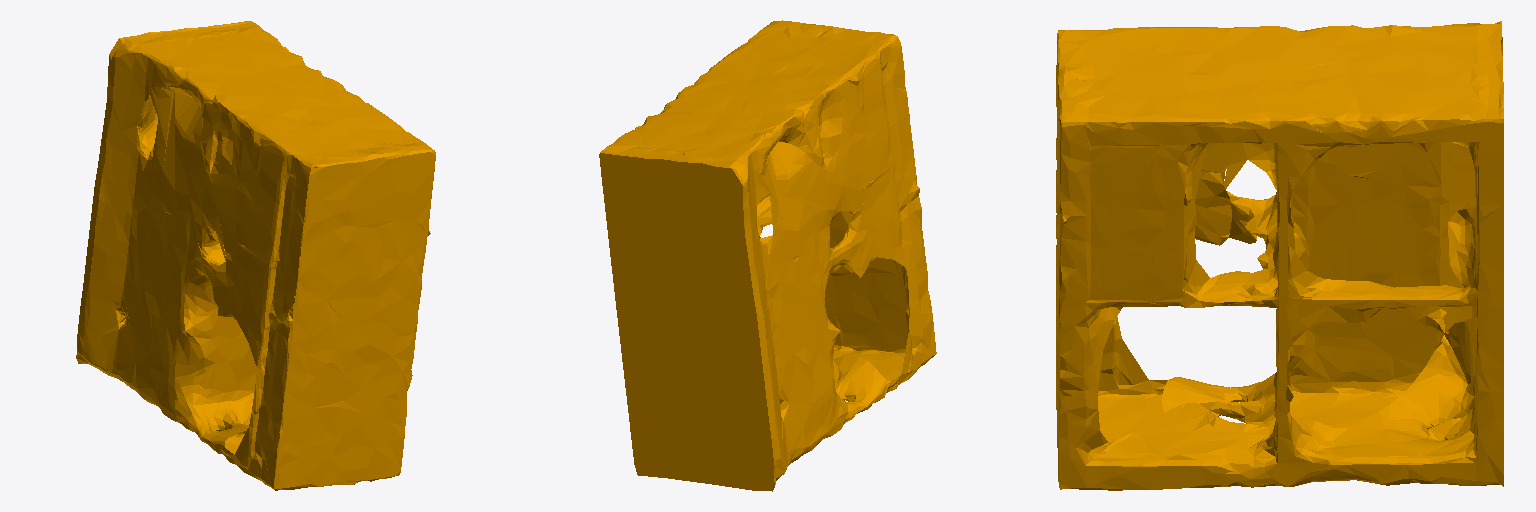
URDF robot description (ikea):
<?xml version="1.0"?>
<robot name="ikea">
  <link name ="rb0">
    <visual>
      <origin xyz='0.022180 0.552208 0.418122' rpy='0.022296 -1.404355 -0.002711'/>
      <geometry>
        <mesh filename="meshes/ikea_base.obj"  scale="1 1 1" />
      </geometry>
    </visual>

     <collision>
      <origin xyz='0.022180 0.552208 0.418122' rpy='0.022296 -1.404355 -0.002711'/>
      <geometry>
        <mesh filename="meshes/ikea_base.obj"  scale="1 1 1" />
      </geometry>
    </collision>

  </link>
  <joint name="j_0_1" type="prismatic">
    <parent link="rb0"/>
    <child link="rb1"/>
    <origin xyz="0.217860996453 -0.0578551077004 0.473953682013" rpy="0 0 0 "/>
    <axis xyz="0.993345970953 0.00472787271649 -0.115071409178"/>
    <limit effort="30" velocity="1.0" lower="-3.1416" upper="3.1416"/>
  </joint>
  <joint name="j_0_fixed" type="fixed">
    <parent link="rb1"/>
    <child link="rb1_marker"/>
      <origin xyz="0.0 0.0 0.0" rpy="1.67516747114 -0.047479998167 1.60579785099"/>
    <limit effort="30" velocity="1.0" lower="-3.1416" upper="3.1416"/>
  </joint>
  <joint name="j_0_2" type="revolute">
    <parent link="rb0"/>
    <child link="rb2"/>
    <origin xyz="0.18966307383 0.0549552994237 0.367074366162" rpy="0 0 0 "/>
    <axis xyz="-0.0373269377607 0.999291610171 -0.00479349127949"/>
    <limit effort="30" velocity="1.0" lower="-3.1416" upper="3.1416"/>
  </joint>
  <joint name="j_1_fixed" type="fixed">
    <parent link="rb2"/>
    <child link="rb2_marker"/>
      <origin xyz="0.0111909507171 -0.00123738202531 -0.295118883249" rpy="2.97920365551 -0.859284197544 -0.227513165653"/>
    <limit effort="30" velocity="1.0" lower="-3.1416" upper="3.1416"/>
  </joint>
  <link name ="rb1">
  </link>
  <link name ="rb1_marker">
    <visual>
      <origin xyz='-0.050028 0.105969 -0.165504' rpy='3.076699 -1.528233 3.141591'/>
      <geometry>
        <mesh filename="meshes/ikea_drawer.obj"  scale="1 1 1" />
      </geometry>
    </visual>

     <collision>
      <origin xyz='-0.050028 0.105969 -0.165504' rpy='3.076699 -1.528233 3.141591'/>
      <geometry>
        <mesh filename="meshes/ikea_drawer.obj"  scale="1 1 1" />
      </geometry>
    </collision>

  </link>
  <link name ="rb2">
  </link>
  <link name ="rb2_marker">
    <visual>
      <origin xyz='0.312712 0.176150 -0.208321' rpy='-0.988543 -0.912821 -0.669597'/>
      <geometry>
        <mesh filename="meshes/ikea_door.obj"  scale="1 1 1" />
      </geometry>
    </visual>

    <collision>
      <origin xyz='0.312712 0.176150 -0.208321' rpy='-0.988543 -0.912821 -0.669597'/>
      <geometry>
        <mesh filename="meshes/ikea_door.obj"  scale="1 1 1" />
      </geometry>
    </collision>

  </link>
</robot>

--- Facts derived from the render (not from the file) ---
Views: 3 orthographic renders of the robot side by side, from view 1: azimuth 30°, elevation 25°; view 2: azimuth 150°, elevation 25°; view 3: azimuth 270°, elevation 25°.
Robot: ikea — 5 links, 4 joints (1 revolute, 1 prismatic, 2 fixed); root link rb0; default pose: every joint at zero.
Links seen in each view (by area): view 1: rb0; view 2: rb0; view 3: rb0.
Link boxes in pixels (x1,y1,x2,y2): rb0: (76,21,435,490); rb0: (599,20,936,491); rb0: (1056,21,1503,490).
Size in the robot's own frame: 0.4563 by 0.7907 by 0.802 metres.
1 mesh visuals loaded from 3 distinct referenced files (1 OBJ); not drawn: 1 (reference not matched to a file when rendering), 1 (file found but could not be loaded).